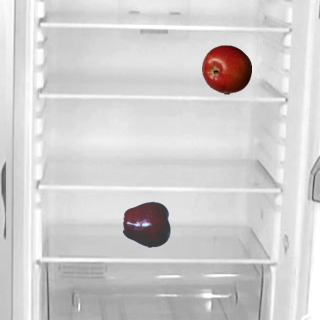Apple Braeburn: (201, 44, 251, 94)
Apple Red Delicious: (122, 199, 172, 249)
